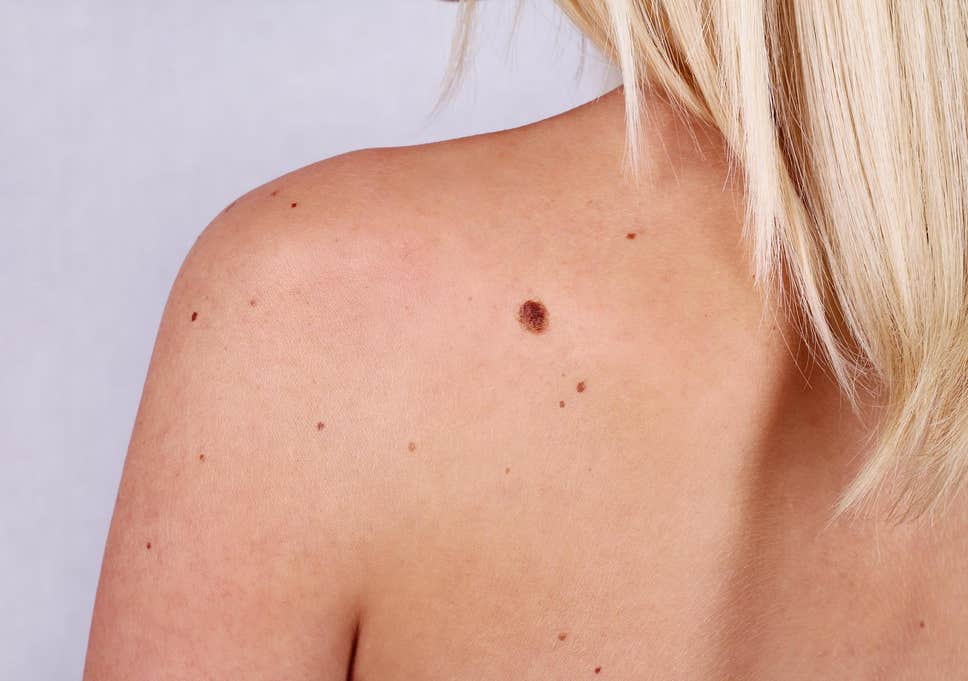melanoma: (405, 242, 654, 438)
